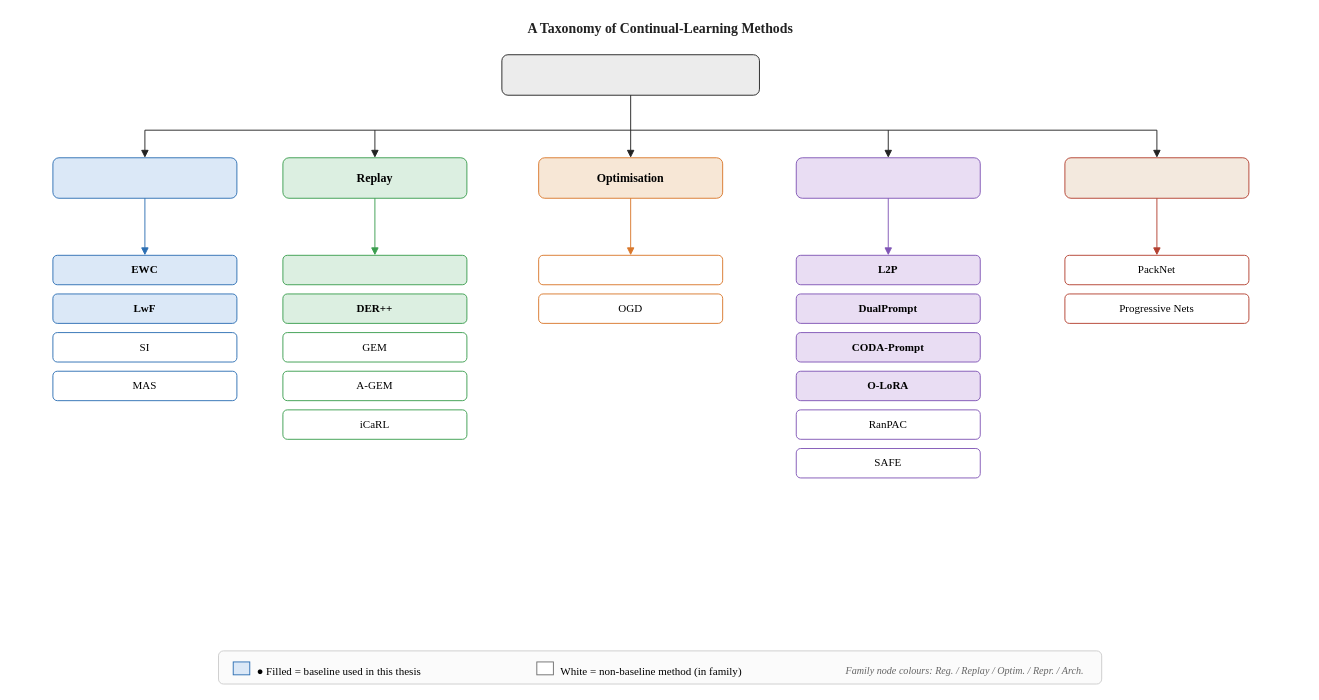
Some shapes in this 1319 by 700 pixel diagram are drawn without their labels. The centre of each missing label's shape, as x and y in pixels:
"Architecture" goes at pixel 1156 177.
"Continual-Learning Methods" goes at pixel 630 74.
"ER" goes at pixel 374 269.
"GPM" goes at pixel 630 269.
"Regularisation" goes at pixel 144 177.
"Representation" goes at pixel 887 177.
